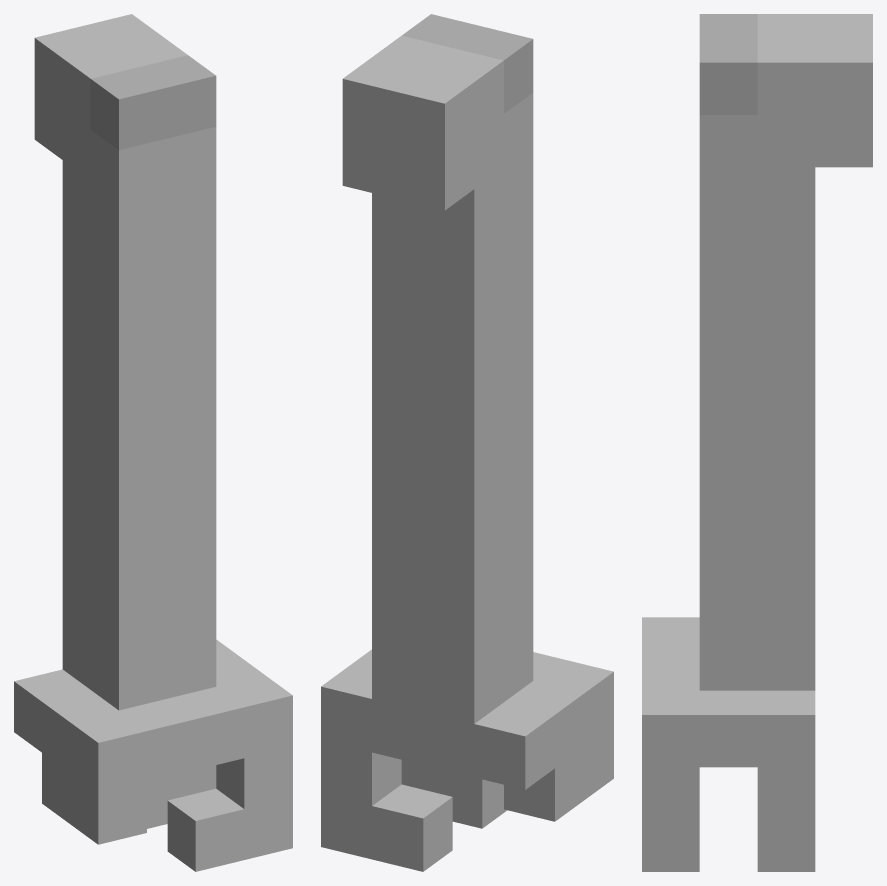
The model's file is EnemySkeleton3-7.obj.
The picture shows the model from 3 angles, left to right: view 1: azimuth 30°, elevation 25°; view 2: azimuth 150°, elevation 25°; view 3: azimuth 270°, elevation 25°; orthographic projection. The views are drawn at different scales.
Size of the model in its own units: 0.4 by 1.5 by 0.4.
Materials: 1 (1 with a texture image).
